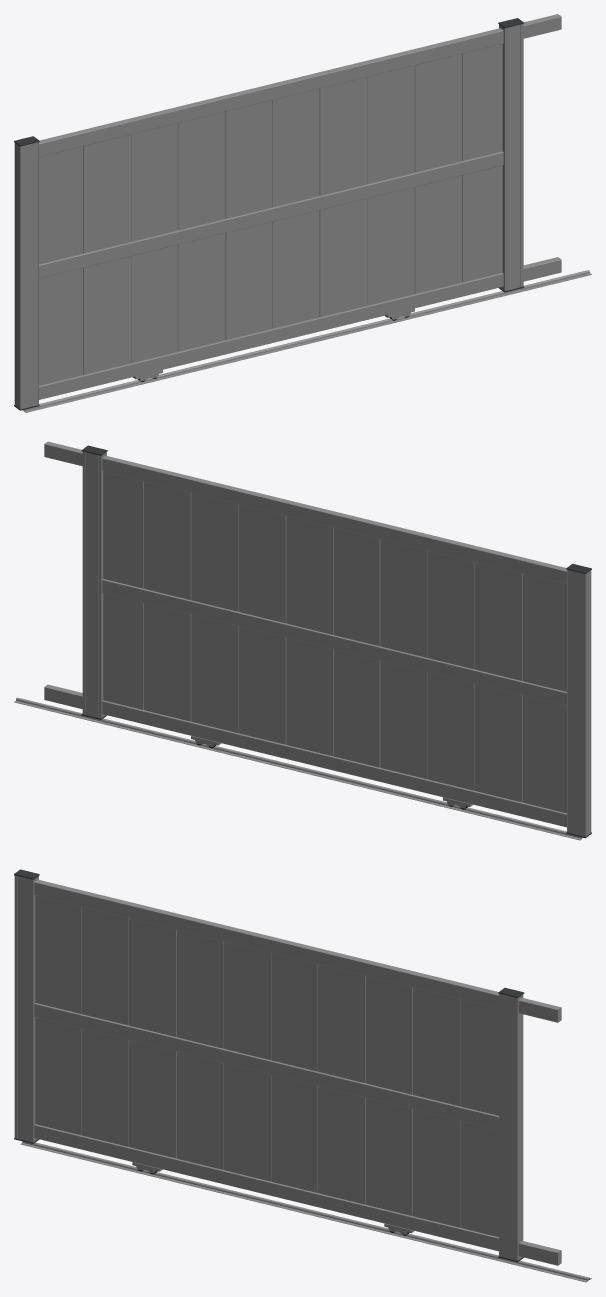
3 renders of one model, top to bottom at view 1: azimuth 30°, elevation 25°; view 2: azimuth 150°, elevation 25°; view 3: azimuth 330°, elevation 25°, orthographic.
Visible parts, largest first — view 1: Line151, Line025, Line150, Line153, Line023, Line152, Line024, Line026, Line022, Line154, Shape096, Shape095 (+4 smaller); view 2: Line151, Line150, Line023, Line026, Line152, Line024, Line025, Line153, Line022, Line154, Shape096, Shape095 (+4 smaller); view 3: Line151, Line153, Line023, Line150, Line024, Line026, Line152, Line022, Line025, Shape096, Line154, Shape095 (+4 smaller).
Boxes of the visible parts, x1,y1,x2,y2 form: Line151: (319,77,367,317); Line025: (178,111,225,351); Line150: (272,88,319,328); Line153: (414,54,461,293); Line023: (83,134,130,374); Line152: (367,65,414,305); Line024: (131,123,178,363); Line026: (225,100,272,339); Line022: (39,146,83,385); Line154: (462,44,502,282); Shape096: (39,14,561,156); Shape095: (39,257,561,399); Line151: (238,504,286,744); Line150: (286,516,333,756); Line023: (475,562,522,802); Line026: (333,527,380,767); Line152: (191,493,238,733); Line024: (427,550,474,790); Line025: (380,539,427,779); Line153: (144,481,191,721); Line022: (522,574,566,813); Line154: (103,471,143,709); Shape096: (44,441,566,584); Shape095: (44,684,566,827); Line151: (318,964,366,1204); Line153: (413,987,460,1227); Line023: (82,907,129,1146); Line150: (271,953,318,1192); Line024: (130,918,177,1158); Line026: (224,941,271,1181); Line152: (366,976,413,1216); Line022: (35,895,82,1135); Line025: (177,930,224,1169); Shape096: (34,879,561,1022); Line154: (461,999,498,1237); Shape095: (34,1124,561,1265).
Bounding box in the file's own units: 3638 × 1636 × 70.
6 materials, 2 textured.
